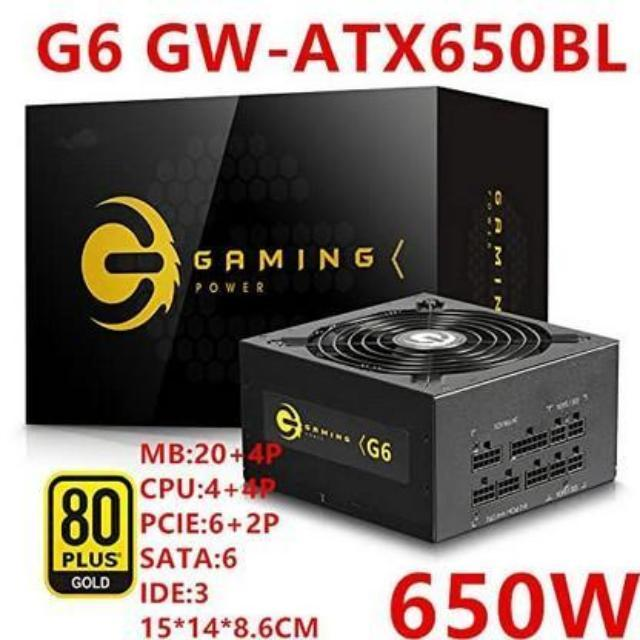PSU: (234, 284, 628, 550)
